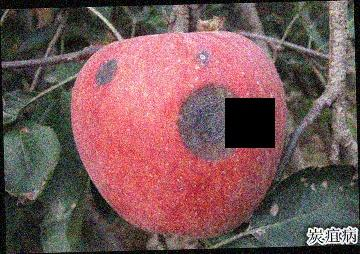rotten apple: (71, 31, 294, 240)
